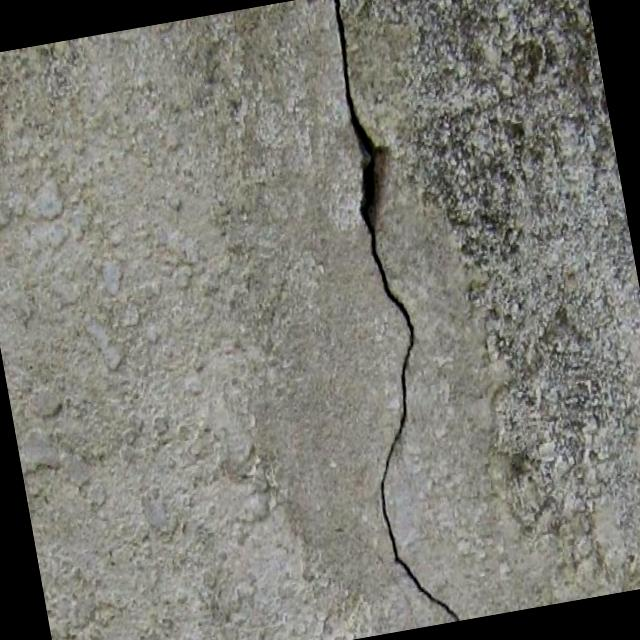crack: (286, 0, 471, 630)
